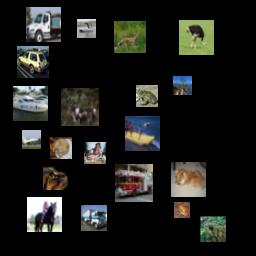airplane: (22, 130, 41, 149)
automobile: (17, 46, 49, 78)
bird: (179, 20, 214, 55)
cat: (43, 161, 72, 190), (50, 137, 72, 159)
deer: (61, 88, 99, 126), (114, 21, 146, 53), (173, 76, 192, 95)
dog: (171, 162, 206, 197)
frog: (200, 216, 226, 242), (136, 85, 158, 107), (174, 202, 190, 218)
ship: (125, 116, 160, 151), (13, 86, 48, 121), (77, 19, 96, 38)
truck: (115, 164, 153, 202), (26, 7, 61, 42), (81, 205, 107, 231)
